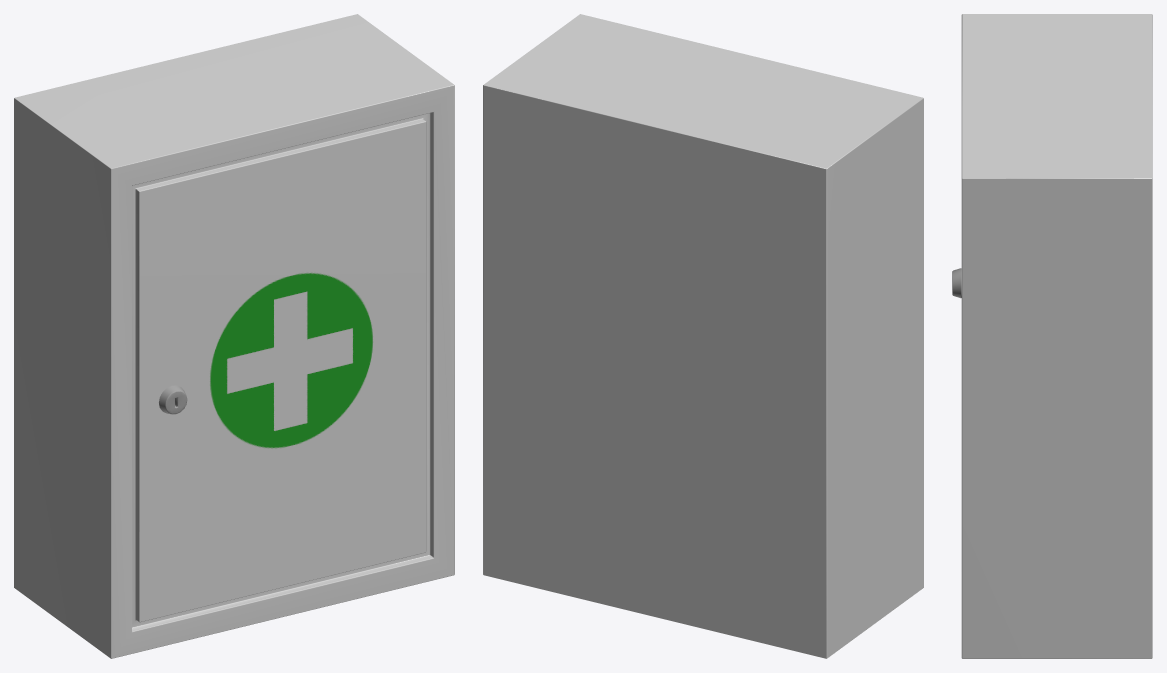
File: medicine_wall_cupboard_hospital.glb
The picture shows the model from 3 angles, left to right: view 1: azimuth 30°, elevation 25°; view 2: azimuth 150°, elevation 25°; view 3: azimuth 270°, elevation 25°; orthographic projection. The views are drawn at different scales.
Visible parts, largest first — view 1: MedicineWallCupboard; view 2: MedicineWallCupboard; view 3: MedicineWallCupboard.
Boxes of the visible parts, x1,y1,x2,y2 form: MedicineWallCupboard: (14, 14, 454, 658); MedicineWallCupboard: (483, 14, 923, 658); MedicineWallCupboard: (952, 14, 1152, 658).
Size of the model in its own units: 0.4854 by 0.661 by 0.2494.
1 material, 1 textured.
